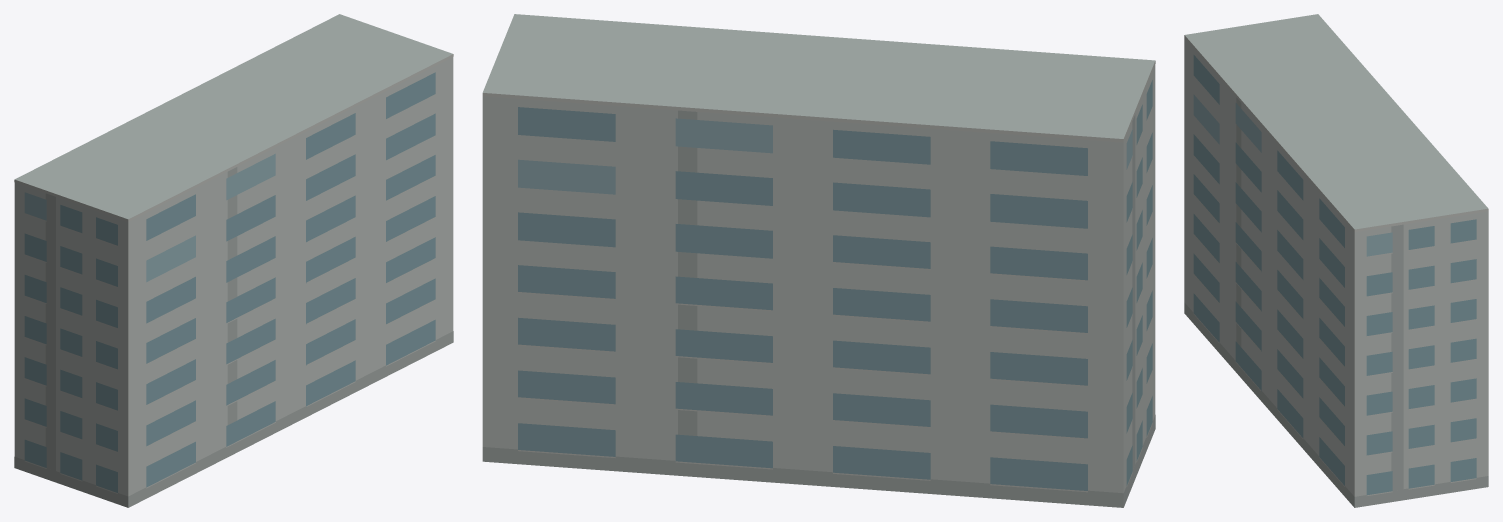
File: residential-4d3825dd-a989-4d31-b7cb-bfcdd3958e85.glb
3 renders of one model, left to right at view 1: azimuth 30°, elevation 25°; view 2: azimuth 150°, elevation 25°; view 3: azimuth 270°, elevation 25°, orthographic. The views are drawn at different scales.
Visible parts, largest first — view 1: residential-4d3825dd-a989-4d31-b7cb-bfcdd3958e85.tmp; view 2: residential-4d3825dd-a989-4d31-b7cb-bfcdd3958e85.tmp; view 3: residential-4d3825dd-a989-4d31-b7cb-bfcdd3958e85.tmp.
Part boxes in pixels (x1,y1,x2,y2): residential-4d3825dd-a989-4d31-b7cb-bfcdd3958e85.tmp: (14,14,453,507); residential-4d3825dd-a989-4d31-b7cb-bfcdd3958e85.tmp: (482,14,1155,507); residential-4d3825dd-a989-4d31-b7cb-bfcdd3958e85.tmp: (1184,14,1488,507).
Size of the model in its own units: 41.51 by 25 by 24.76.
